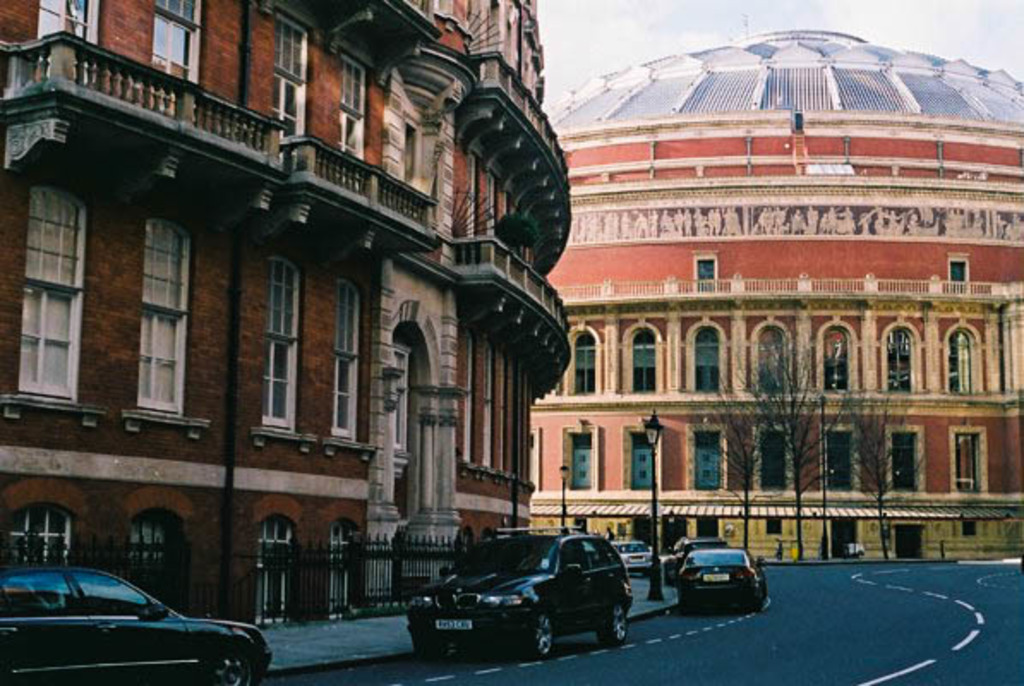Car: (0, 552, 257, 677), (408, 531, 629, 663), (679, 547, 770, 610), (660, 540, 730, 576), (610, 545, 655, 571)
